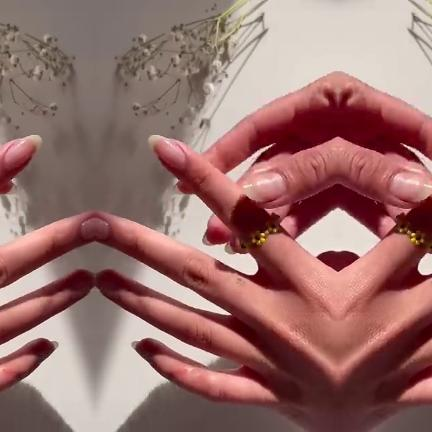Nail: (242, 172, 286, 202), (388, 172, 432, 202), (147, 135, 184, 169), (4, 135, 41, 169), (94, 216, 108, 240), (80, 216, 94, 240)
